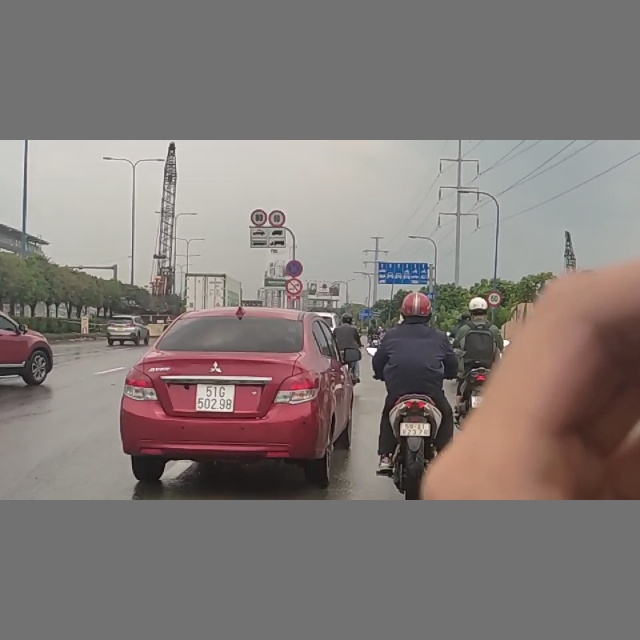P.130: (285, 260, 303, 277)
